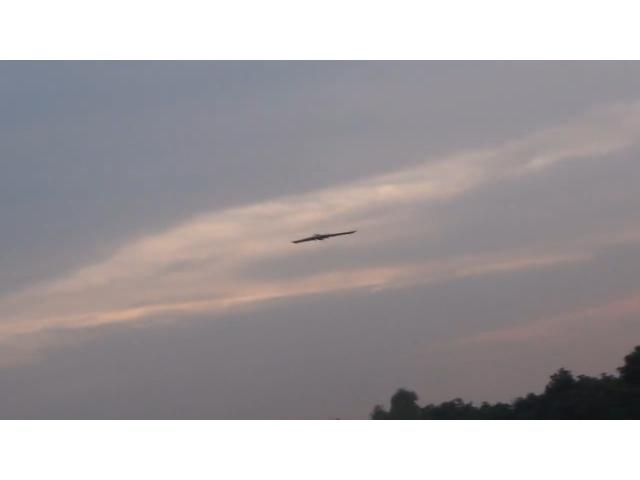Anti-Drone: (290, 230, 358, 244)
